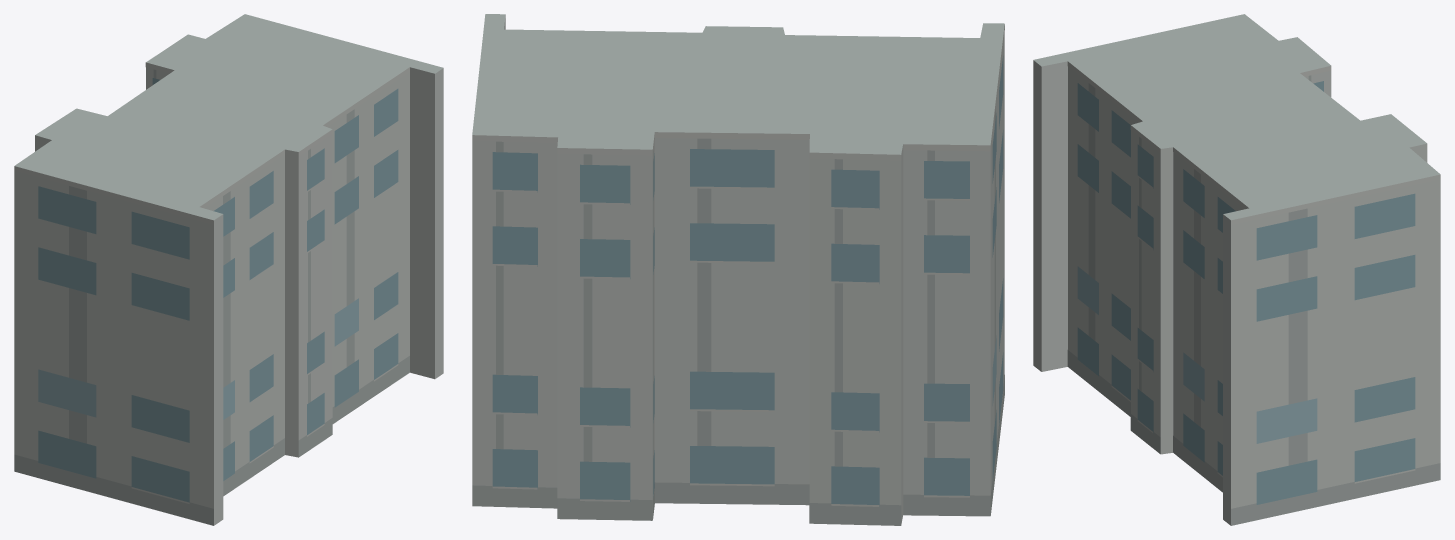
File: survey-upis-32769412.glb
The picture shows the model from 3 angles, left to right: view 1: azimuth 30°, elevation 25°; view 2: azimuth 150°, elevation 25°; view 3: azimuth 270°, elevation 25°; orthographic projection. The views are drawn at different scales.
Parts seen in each view (by area): view 1: survey-upis-32769412.tmp; view 2: survey-upis-32769412.tmp; view 3: survey-upis-32769412.tmp.
Part boxes in pixels (box(x1,y1,x2,y2)): survey-upis-32769412.tmp: box(14, 14, 443, 525); survey-upis-32769412.tmp: box(472, 14, 1004, 525); survey-upis-32769412.tmp: box(1033, 14, 1440, 525).
Size of the model in its own units: 22.1 by 15.25 by 18.44.
